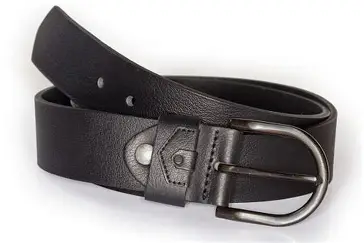sabuk_ada: (36, 56, 343, 202)
